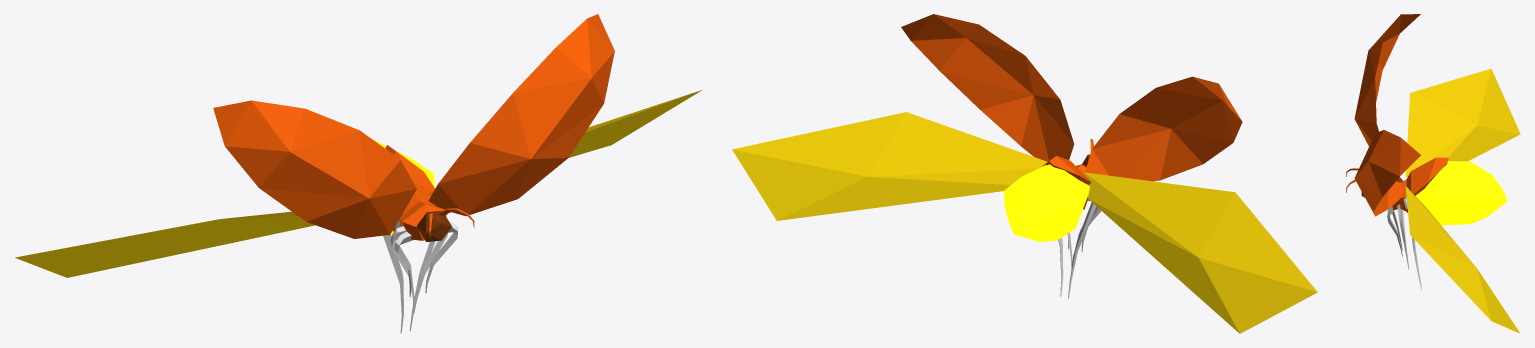
Rendered from firefly6.dae.
3 renders of one model, left to right at view 1: azimuth 30°, elevation 25°; view 2: azimuth 150°, elevation 25°; view 3: azimuth 270°, elevation 25°, orthographic. The views are drawn at different scales.
Parts seen in each view (by area): view 1: Sphere, right_wing, left_wing, torso, Polygon, Polygon.2, head, Polygon.1; view 2: Sphere, left_wing, right_wing, bulb, Polygon.2, torso; view 3: right_wing, Sphere, bulb, left_wing, torso, Polygon, Polygon.1, Polygon.2.
Part boxes in pixels (x1,y1,x2,y2): Sphere: (213,14,614,238); right_wing: (15,211,314,277); left_wing: (429,90,701,194); torso: (385,145,446,240); Polygon: (394,222,457,296); Polygon.2: (383,220,435,333); head: (416,210,451,241); Polygon.1: (391,226,447,313); Sphere: (901,14,1242,181); left_wing: (732,112,1047,220); right_wing: (1084,172,1317,333); bulb: (1003,164,1089,241); Polygon.2: (1058,202,1096,298); torso: (1041,156,1091,209); right_wing: (1405,68,1520,177); Sphere: (1354,14,1420,216); bulb: (1415,161,1507,225); left_wing: (1405,186,1520,333); torso: (1392,157,1448,212); Polygon: (1387,206,1402,256); Polygon.1: (1397,204,1409,269); Polygon.2: (1402,196,1421,290).
Size of the model in its own units: 128 by 50.16 by 37.27.
